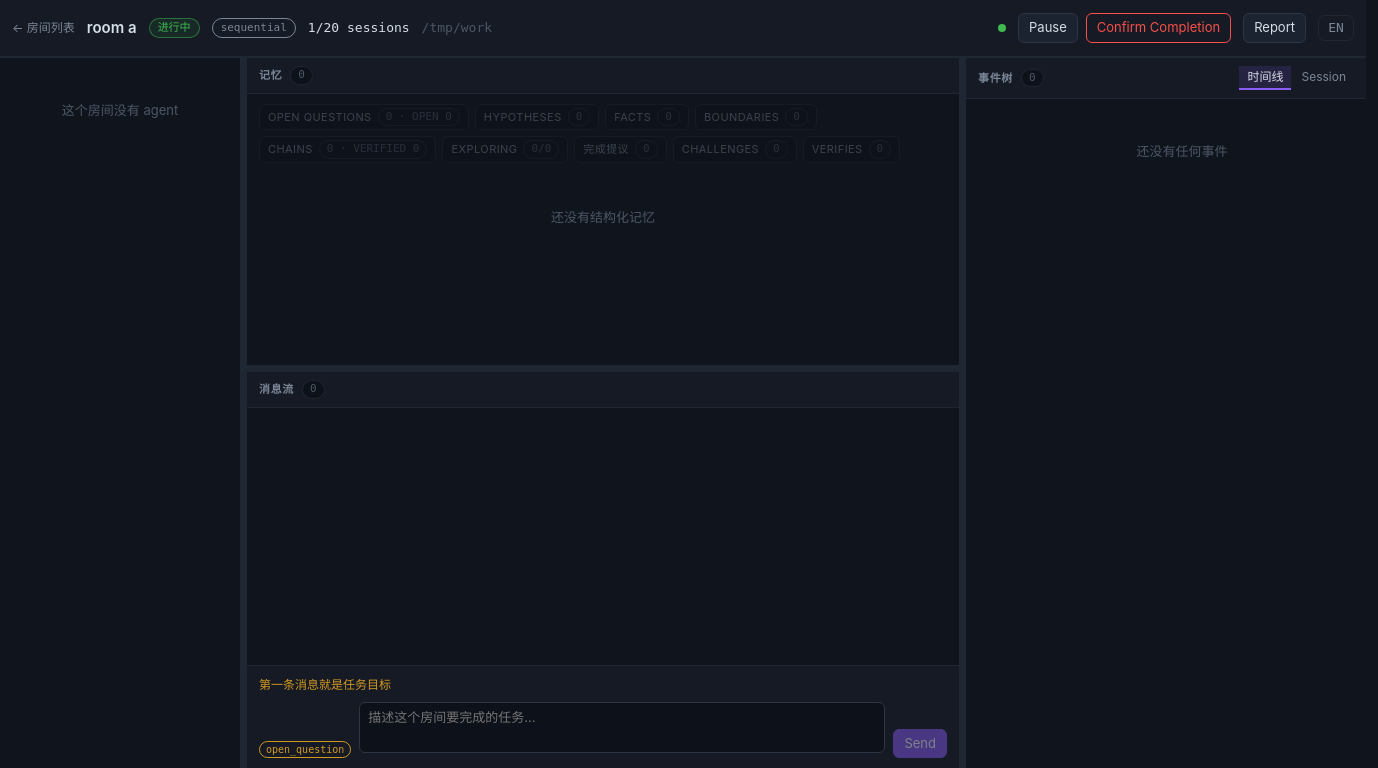
Test case: RoomDashboardPage › shows a toast when postHumanMessage fails
Expected: the heading "room a" is shown, [87, 17, 137, 39]
Step 1. Type "hi" into the text box named "content" → (622, 727), box [359, 702, 886, 752]
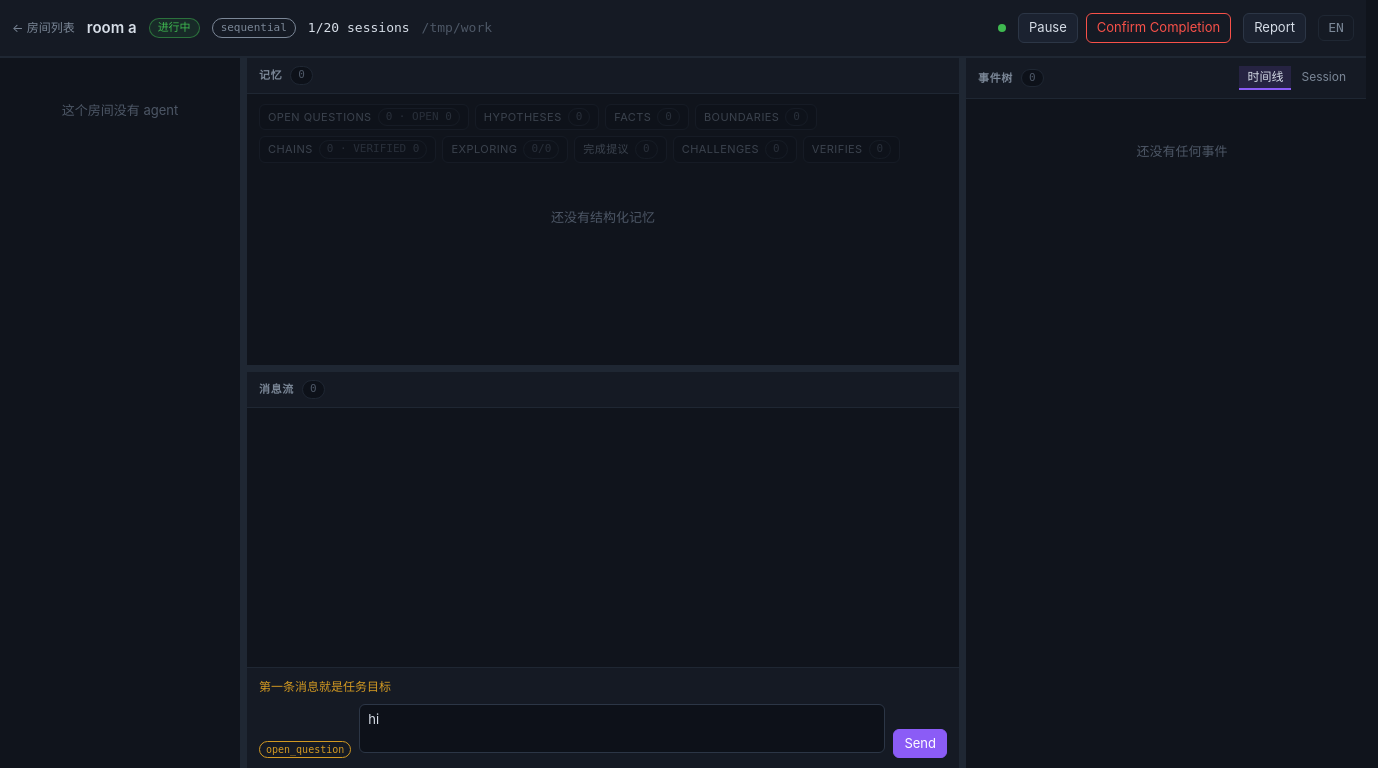
Step 2. Click the button "Send" → (920, 743), box [893, 728, 947, 758]
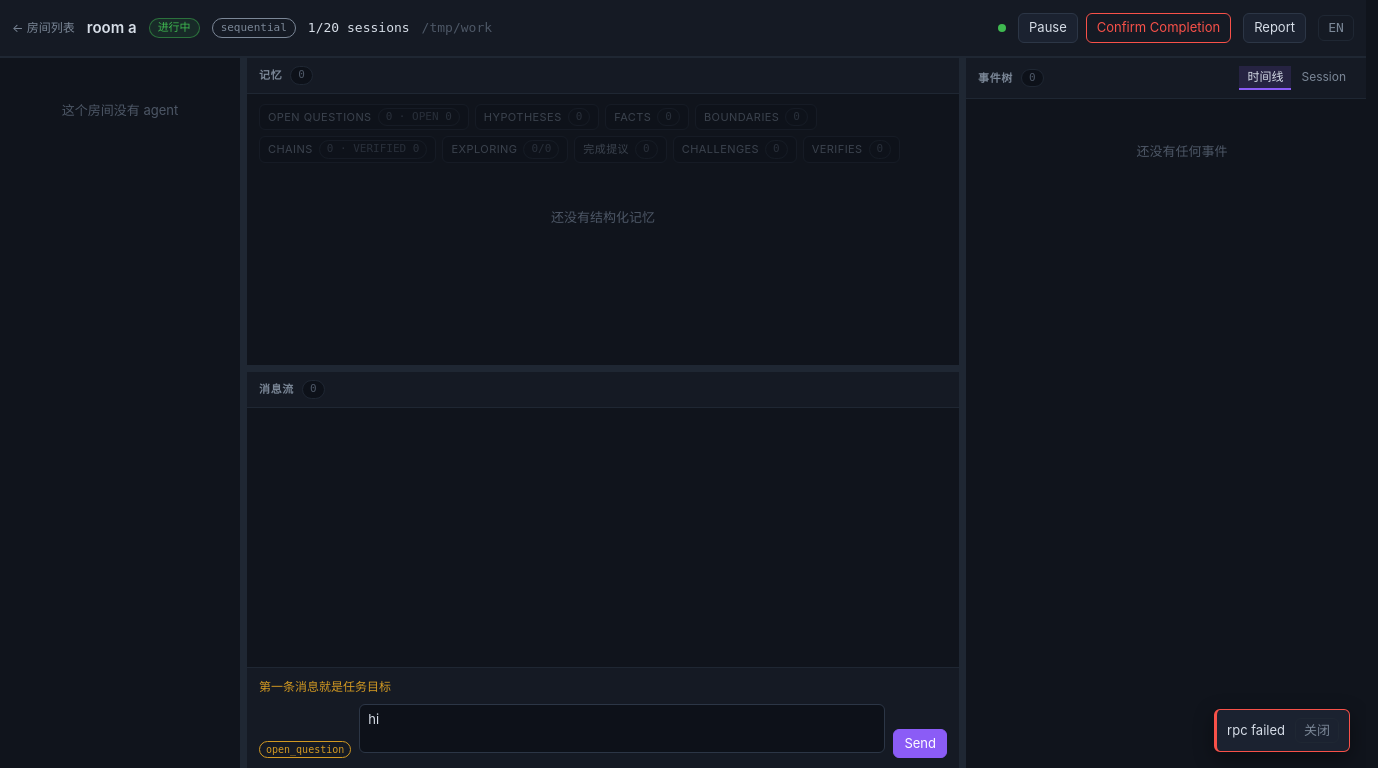
Result: the message "rpc failed 关闭" is shown at [1214, 708, 1350, 752]
